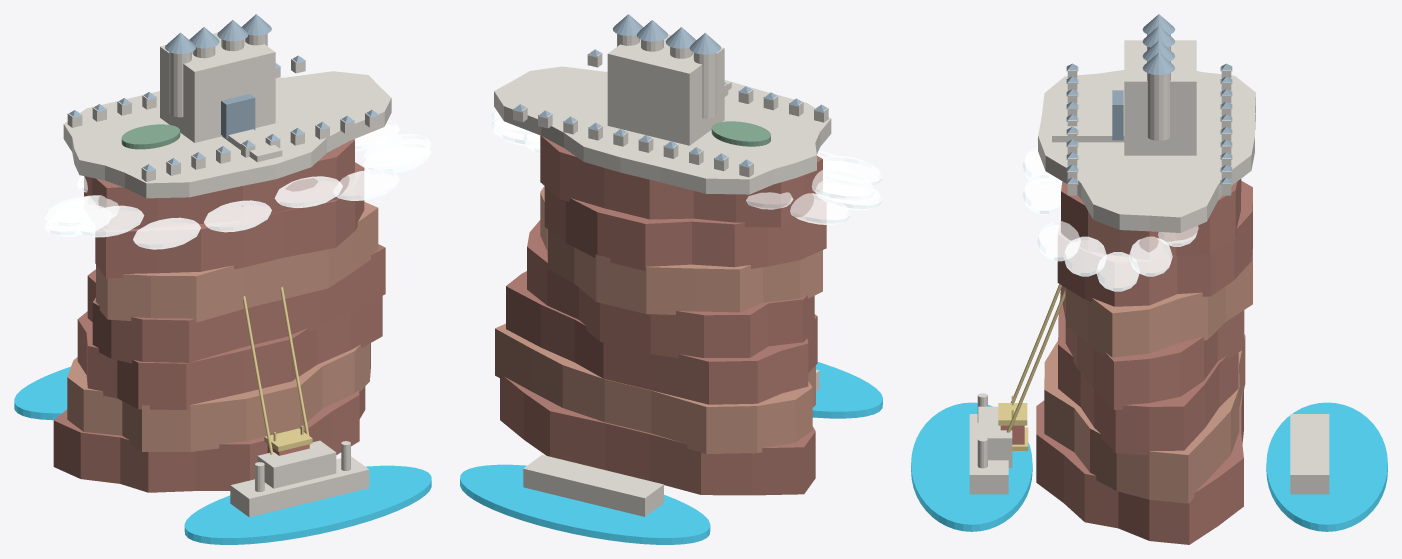
File: mary-geoise-red-line.glb
3 views of the same model, side by side, from view 1: azimuth 30°, elevation 25°; view 2: azimuth 150°, elevation 25°; view 3: azimuth 270°, elevation 25° (orthographic). The views are drawn at different scales.
Visible parts, largest first — view 1: Mary Geoise summit plateau, Red Line irregular stratum 2, Red Line irregular stratum 3, Red Line irregular stratum 6, Red Line irregular stratum 5, Red Line irregular stratum 4, Red Line irregular stratum 1, Red Line irregular stratum 7, Paradise Red Port harbor, Pangaea Castle central keep, Paradise Red Port quay, Paradise Red Port terminal (+18 smaller); view 2: Mary Geoise summit plateau, Red Line irregular stratum 2, Red Line irregular stratum 1, Red Line irregular stratum 3, Red Line irregular stratum 6, Red Line irregular stratum 4, Red Line irregular stratum 5, Red Line irregular stratum 7, New World Red Port water, Pangaea Castle central keep, New World Red Port quay, Paradise Red Port harbor (+8 smaller); view 3: Mary Geoise summit plateau, Red Line irregular stratum 1, Red Line irregular stratum 2, New World Red Port water, Red Line irregular stratum 6, Red Line irregular stratum 3, Paradise Red Port harbor, Red Line irregular stratum 5, Red Line irregular stratum 4, Red Line irregular stratum 7, Pangaea Castle central keep, New World Red Port quay (+12 smaller).
Part boxes in pixels (<box>): Mary Geoise summit plateau: <box>63,71,391,198</box>; Red Line irregular stratum 2: <box>67,343,370,451</box>; Red Line irregular stratum 3: <box>77,296,382,409</box>; Red Line irregular stratum 6: <box>95,162,364,278</box>; Red Line irregular stratum 5: <box>96,202,378,322</box>; Red Line irregular stratum 4: <box>87,244,385,363</box>; Red Line irregular stratum 1: <box>53,386,365,492</box>; Red Line irregular stratum 7: <box>84,139,354,229</box>; Paradise Red Port harbor: <box>184,465,431,544</box>; Pangaea Castle central keep: <box>160,32,275,142</box>; Paradise Red Port quay: <box>230,456,369,517</box>; Paradise Red Port terminal: <box>257,440,336,488</box>; Mary Geoise summit plateau: <box>494,66,831,194</box>; Red Line irregular stratum 2: <box>495,323,815,453</box>; Red Line irregular stratum 1: <box>500,376,815,495</box>; Red Line irregular stratum 3: <box>506,271,817,404</box>; Red Line irregular stratum 6: <box>544,186,826,270</box>; Red Line irregular stratum 4: <box>527,220,814,358</box>; Red Line irregular stratum 5: <box>540,186,822,314</box>; Red Line irregular stratum 7: <box>540,135,822,227</box>; New World Red Port water: <box>460,464,710,544</box>; Pangaea Castle central keep: <box>607,34,724,145</box>; New World Red Port quay: <box>523,455,663,516</box>; Paradise Red Port harbor: <box>812,362,882,418</box>; Mary Geoise summit plateau: <box>1038,70,1255,232</box>; Red Line irregular stratum 1: <box>1036,390,1243,544</box>; Red Line irregular stratum 2: <box>1044,334,1245,503</box>; New World Red Port water: <box>1266,402,1387,531</box>; Red Line irregular stratum 6: <box>1057,181,1252,306</box>; Red Line irregular stratum 3: <box>1058,292,1238,455</box>; Paradise Red Port harbor: <box>911,402,1032,531</box>; Red Line irregular stratum 5: <box>1065,249,1252,357</box>; Red Line irregular stratum 4: <box>1060,286,1244,409</box>; Red Line irregular stratum 7: <box>1061,179,1241,259</box>; Pangaea Castle central keep: <box>1124,40,1196,155</box>; New World Red Port quay: <box>1290,414,1329,494</box>.
Size of the model in its own units: 14.64 by 15.35 by 15.16.
